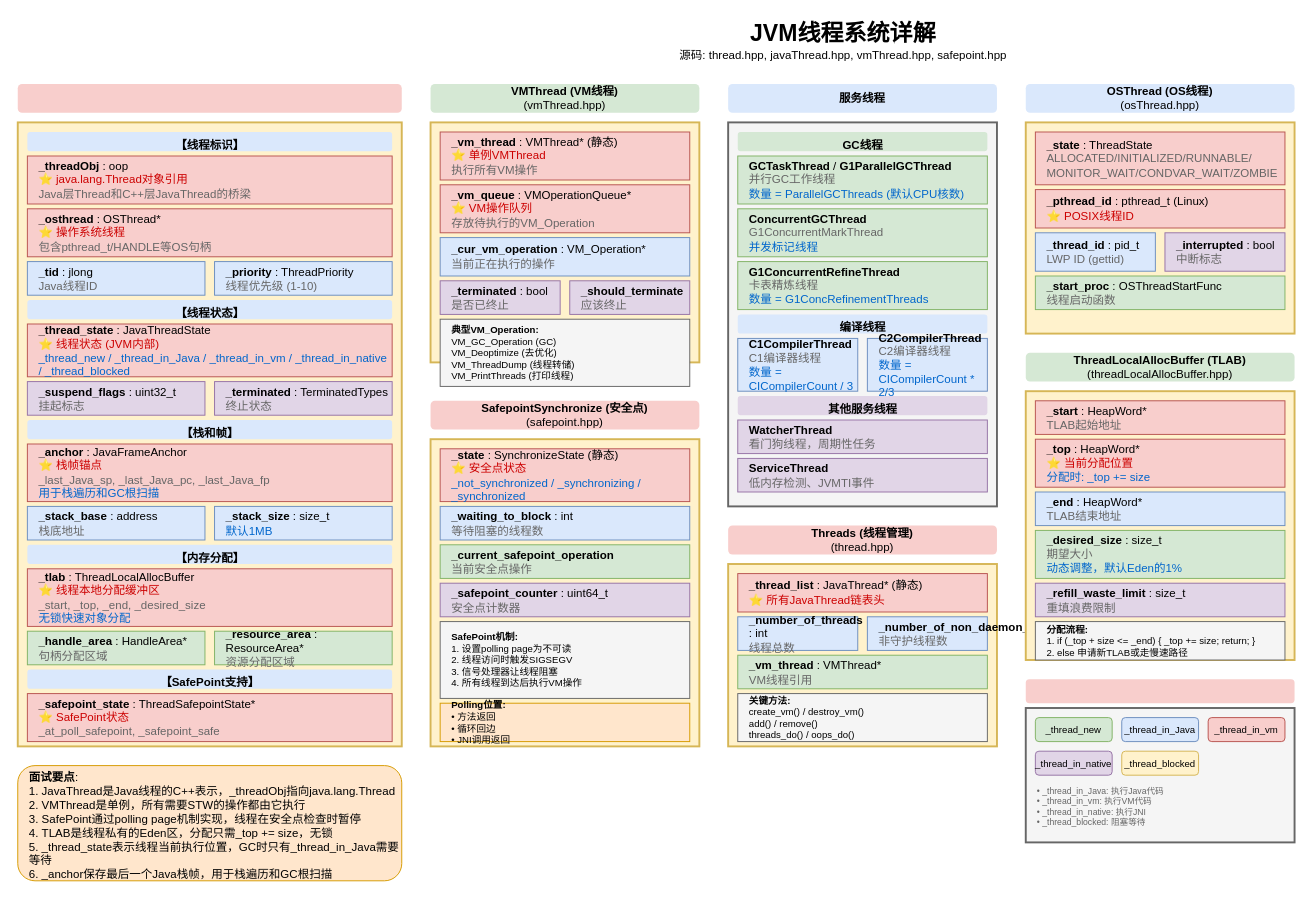
Image size: 1311x898. Some labels were removed from this diagram. The box of each missing label's shape, as (x1, y1, x2, y2) in pixels:
JavaThread (Java线程) (thread.hpp): (17, 84, 401, 112)
线程状态转换: (1025, 679, 1294, 703)
